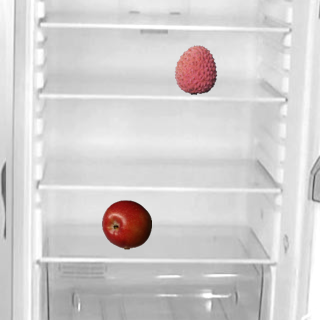Apple Braeburn: (101, 199, 151, 249)
Lychee: (170, 44, 220, 94)
